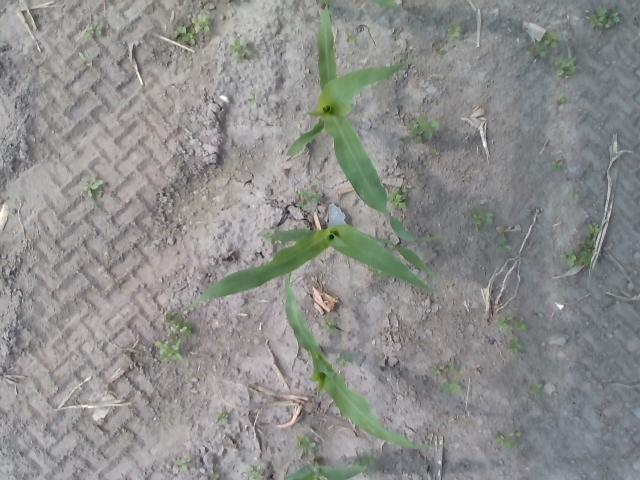Maize: (287, 8, 441, 241), (286, 273, 438, 450), (172, 224, 436, 314), (283, 458, 367, 480)
Weeds: (409, 115, 437, 141), (589, 7, 621, 28), (166, 317, 193, 336), (554, 55, 578, 76), (157, 340, 181, 360), (80, 178, 104, 196), (472, 208, 494, 227), (297, 188, 322, 204), (296, 434, 316, 451), (390, 190, 410, 207), (192, 14, 209, 33), (439, 382, 462, 394), (561, 251, 577, 268), (581, 247, 594, 267), (497, 234, 511, 252), (232, 40, 246, 58), (545, 32, 560, 48), (336, 352, 353, 366), (177, 33, 195, 46), (507, 338, 523, 352), (248, 466, 264, 480), (174, 458, 191, 470), (322, 318, 335, 331), (216, 410, 230, 422), (88, 25, 102, 35), (531, 46, 545, 56), (449, 24, 461, 35), (529, 382, 541, 392), (174, 27, 186, 36), (516, 320, 526, 330), (590, 225, 600, 235), (449, 364, 459, 374), (498, 318, 507, 329), (508, 430, 522, 437), (432, 366, 444, 374), (250, 90, 256, 106), (506, 440, 515, 450), (346, 34, 356, 43), (78, 52, 86, 62), (497, 436, 505, 446), (554, 160, 564, 168), (572, 190, 580, 198), (432, 148, 440, 156), (558, 96, 566, 102)
